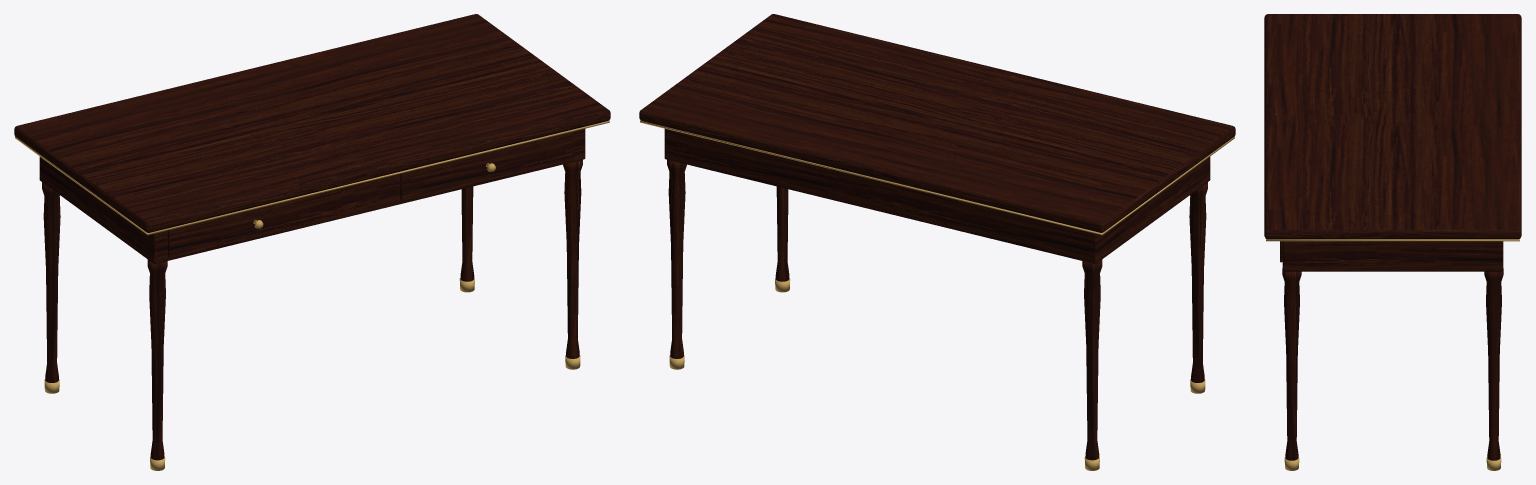
The picture shows the model from 3 angles, left to right: view 1: azimuth 30°, elevation 25°; view 2: azimuth 150°, elevation 25°; view 3: azimuth 270°, elevation 25°; orthographic projection. The views are drawn at different scales.
Parts seen in each view (by area): view 1: Ebonised top, Apron, Drawer panel 1, Drawer panel 2, Turned leg LF, Turned leg RF, Turned leg LB, Brass edge band, Turned leg RB; view 2: Ebonised top, Apron, Turned leg LB, Turned leg RB, Turned leg LF, Brass edge band, Turned leg RF; view 3: Ebonised top, Apron, Turned leg RB, Turned leg RF, Brass edge band.
Boxes of the visible parts, left/top/right/bottom form: Ebonised top: left=14, top=14, right=610, bottom=232; Apron: left=39, top=128, right=585, bottom=263; Drawer panel 1: left=167, top=188, right=341, bottom=258; Drawer panel 2: left=400, top=131, right=573, bottom=201; Turned leg LF: left=147, top=259, right=167, bottom=460; Turned leg RF: left=563, top=159, right=582, bottom=358; Turned leg LB: left=42, top=182, right=60, bottom=382; Brass edge band: left=15, top=120, right=609, bottom=235; Turned leg RB: left=460, top=186, right=474, bottom=281; Ebonised top: left=639, top=14, right=1235, bottom=232; Apron: left=664, top=128, right=1210, bottom=263; Turned leg LB: left=1082, top=259, right=1102, bottom=460; Turned leg RB: left=667, top=159, right=686, bottom=358; Turned leg LF: left=1189, top=182, right=1207, bottom=382; Brass edge band: left=640, top=120, right=1234, bottom=235; Turned leg RF: left=775, top=186, right=789, bottom=281; Ebonised top: left=1264, top=14, right=1521, bottom=239; Apron: left=1282, top=241, right=1503, bottom=271; Turned leg RB: left=1484, top=268, right=1503, bottom=460; Turned leg RF: left=1282, top=268, right=1301, bottom=460; Brass edge band: left=1266, top=239, right=1519, bottom=241.
Size of the model in its own units: 1.4 by 0.75 by 0.7.
2 materials, 1 textured.
